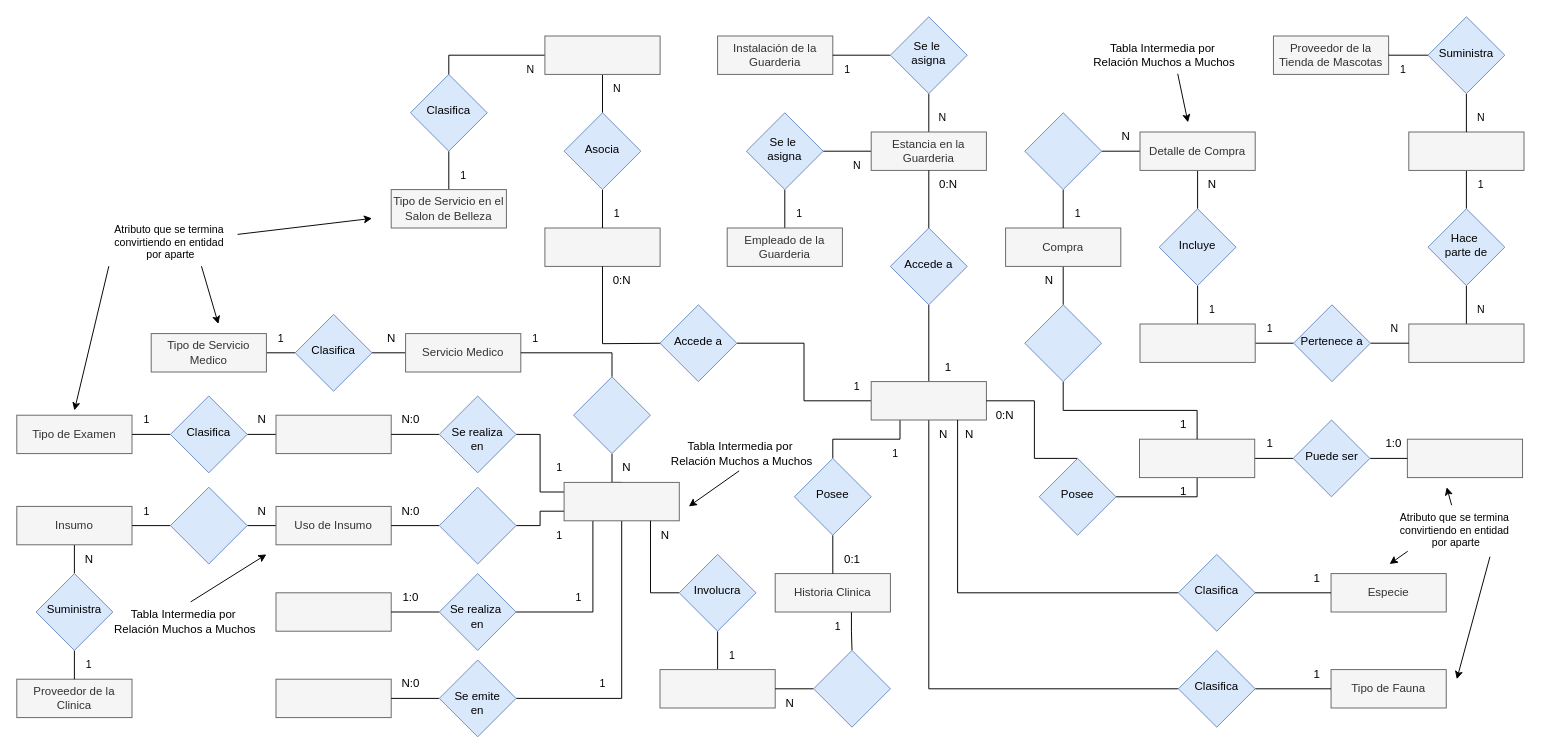
Some shapes in this 1541 by 754 pixel diagram are drawn without their labels. Here are the shapes that lost their labels. From the top down, the centre of each, then its label:
(x=602, y=54): Servicio en el Salon de Belleza
(x=1063, y=151): Genera
(x=1466, y=150): Pedido
(x=602, y=246): Cita en el Salon de Belleza
(x=1063, y=343): Realiza
(x=1197, y=342): Producto
(x=1466, y=342): Lote
(x=611, y=415): Se ofrece en
(x=928, y=400): Mascota
(x=333, y=434): Examen
(x=1197, y=458): Propietario
(x=1464, y=458): Cliente Preferente
(x=621, y=501): Servicio Medico durante la Atención Medica
(x=208, y=525): Se utiliza en
(x=477, y=525): Se aplica en
(x=333, y=611): Procedimiento
(x=333, y=698): Receta
(x=717, y=688): Atención Medica
(x=851, y=688): Registra
